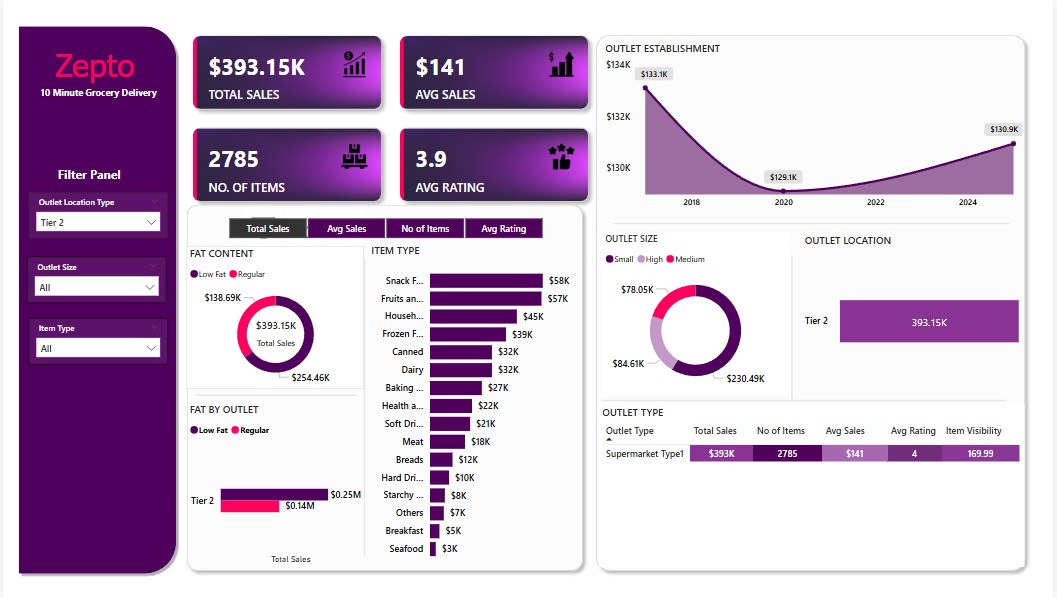

What the dashboard file says about the page in this screenshot:
{"tool":"powerbi","page":{"name":"Page 1","canvas":[1400,800],"ordinal":0},"visuals":[{"type":"shape","box":[16,30,220,740],"z":0},{"type":"textbox","box":[63.3,53.3,138.3,70],"z":1000},{"type":"textbox","box":[34,108,186,30],"z":2000},{"type":"cardVisual","fields":{"Data":["BlinkIT Grocery Data.Total Sales","BlinkIT Grocery Data.Avg Sales","BlinkIT Grocery Data.No of Items","BlinkIT Grocery Data.Avg Rating"]},"box":[236,30,562,256],"z":3000},{"type":"shape","box":[236,264,546,506],"z":4000},{"type":"donutChart","title":" FAT CONTENT","fields":{"Y":["BlinkIT Grocery Data.Total Sales"],"Category":["BlinkIT Grocery Data.Item Fat Content"]},"box":[244,328,238,190],"z":5000},{"type":"slicer","fields":{"Values":["Metrics.Metrics"]},"box":[275.7,284.3,467.1,40],"z":6000},{"type":"cardVisual","fields":{"Data":["BlinkIT Grocery Data.Total Sales"]},"box":[318,404,92,78],"z":7000},{"type":"clusteredBarChart","title":" FAT BY OUTLET","fields":{"Y":["BlinkIT Grocery Data.Total Sales"],"Category":["BlinkIT Grocery Data.Outlet Location Type"],"Series":["BlinkIT Grocery Data.Item Fat Content"]},"box":[244,536,238,220],"z":8000},{"type":"shape","box":[258,518,214,18],"z":9000},{"type":"shape","box":[458,344,48,398],"z":10000},{"type":"barChart","title":"ITEM TYPE","fields":{"Y":["BlinkIT Grocery Data.Total Sales"],"Category":["BlinkIT Grocery Data.Item Type"]},"box":[486,324,280,432],"z":11000},{"type":"shape","box":[782,38,590,732],"z":12000},{"type":"lineChart","title":"OUTLET ESTABLISHMENT","fields":{"Y":["BlinkIT Grocery Data.Total Sales"],"Category":["BlinkIT Grocery Data.Outlet Establishment Year"]},"box":[798,54,566,232],"z":13000},{"type":"shape","box":[798,518,540,32],"z":14000},{"type":"shape","box":[814,286,528,24],"z":15000},{"type":"donutChart","title":"OUTLET SIZE","fields":{"Y":["BlinkIT Grocery Data.Total Sales"],"Category":["BlinkIT Grocery Data.Outlet Size"]},"box":[798,310,250,218],"z":16000},{"type":"funnel","title":"OUTLET LOCATION","fields":{"Category":["BlinkIT Grocery Data.Outlet Location Type"],"Y":["Sum(BlinkIT Grocery Data.Sales)"]},"box":[1064,310,300,218],"z":17000},{"type":"shape","box":[1036,340,32,196],"z":18000},{"type":"pivotTable","title":"OUTLET TYPE","fields":{"Rows":["BlinkIT Grocery Data.Outlet Type"],"Values":["BlinkIT Grocery Data.Total Sales","BlinkIT Grocery Data.No of Items","BlinkIT Grocery Data.Avg Sales","BlinkIT Grocery Data.Avg Rating","Sum(BlinkIT Grocery Data.Item Visibility)"]},"box":[794,540,568,216],"z":19000},{"type":"slicer","fields":{"Values":["BlinkIT Grocery Data.Outlet Location Type"]},"box":[34,256,186,62],"z":20000},{"type":"slicer","fields":{"Values":["BlinkIT Grocery Data.Outlet Size"]},"box":[32,342,186,62],"z":21000},{"type":"slicer","fields":{"Values":["BlinkIT Grocery Data.Item Type"]},"box":[34,424,186,62],"z":22000},{"type":"textbox","box":[68,216,152,40],"z":23000}]}

Visuals, with their boxes in screenshot pixels (x1, y1, x2, y2), scaled from the page's 1400x800 canvas onto the 1057x598 screenshot:
shape: (12,22,178,576)
textbox: (48,40,152,92)
textbox: (26,81,166,103)
cardVisual - BlinkIT Grocery Data.Total Sales x BlinkIT Grocery Data.Avg Sales: (178,22,602,214)
shape: (178,197,590,576)
" FAT CONTENT" donutChart: (184,245,364,387)
slicer - Metrics.Metrics: (208,213,561,242)
cardVisual - BlinkIT Grocery Data.Total Sales: (240,302,310,360)
" FAT BY OUTLET" clusteredBarChart: (184,401,364,565)
shape: (195,387,356,401)
shape: (346,257,382,555)
"ITEM TYPE" barChart: (367,242,578,565)
shape: (590,28,1036,576)
"OUTLET ESTABLISHMENT" lineChart: (602,40,1030,214)
shape: (602,387,1010,411)
shape: (615,214,1013,232)
"OUTLET SIZE" donutChart: (602,232,791,395)
"OUTLET LOCATION" funnel: (803,232,1030,395)
shape: (782,254,806,401)
"OUTLET TYPE" pivotTable: (599,404,1028,565)
slicer - BlinkIT Grocery Data.Outlet Location Type: (26,191,166,238)
slicer - BlinkIT Grocery Data.Outlet Size: (24,256,165,302)
slicer - BlinkIT Grocery Data.Item Type: (26,317,166,363)
textbox: (51,161,166,191)
